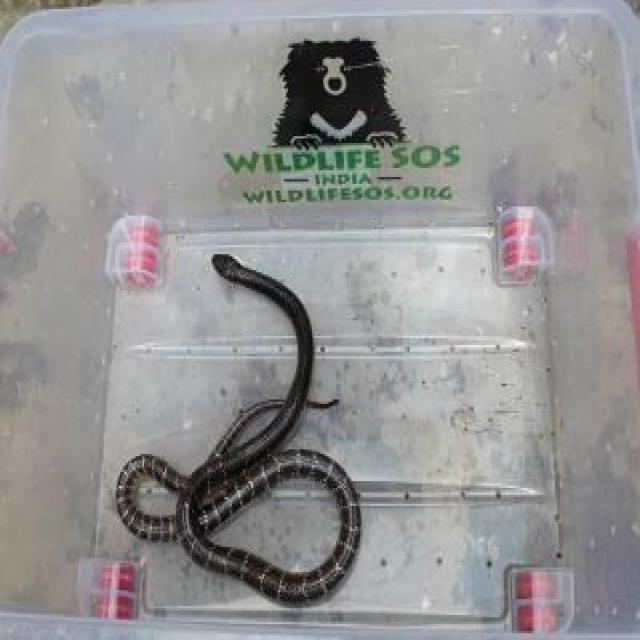Snake: (114, 250, 362, 604)
